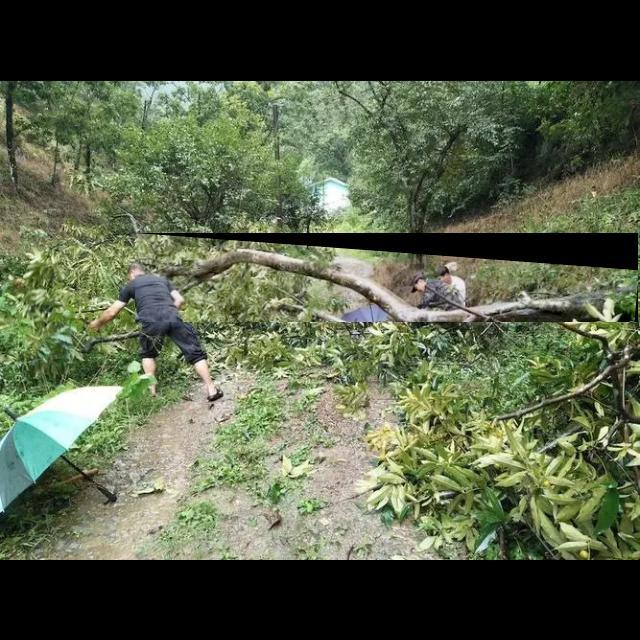fallen_tree: (135, 233, 639, 323)
